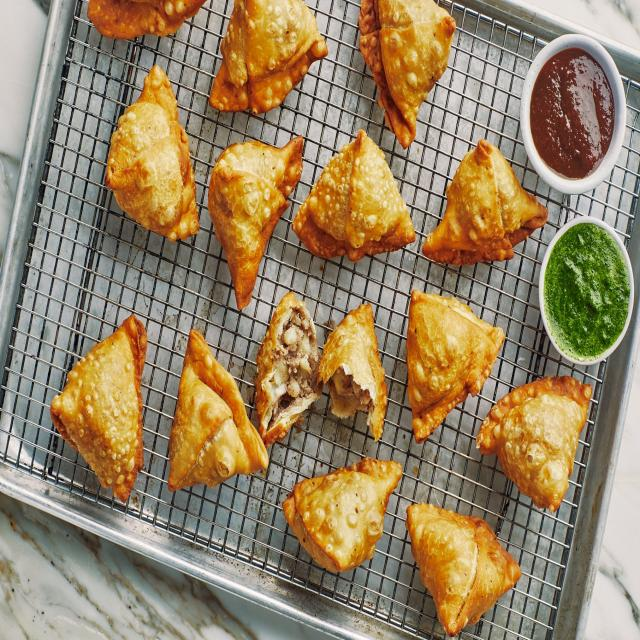samosa: (98, 55, 199, 287), (204, 126, 312, 310), (45, 314, 157, 490), (346, 0, 476, 141), (404, 283, 510, 449), (278, 455, 408, 586), (212, 0, 329, 115)
